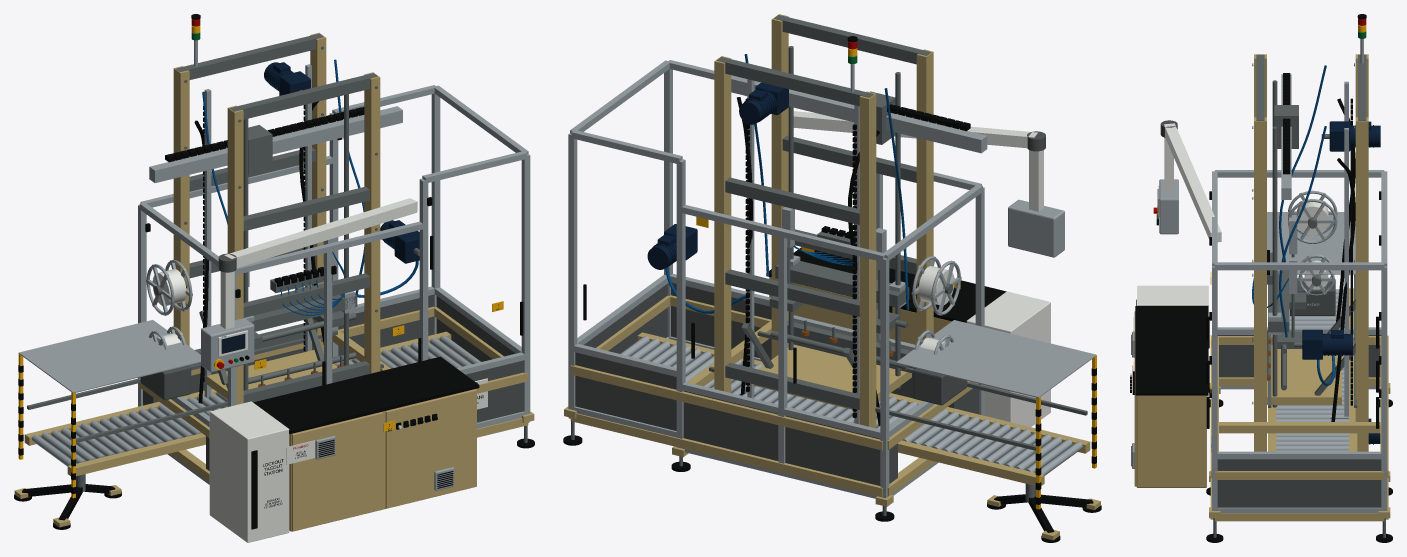
File: senzani.obj
3 views of the same model, side by side, from view 1: azimuth 30°, elevation 25°; view 2: azimuth 150°, elevation 25°; view 3: azimuth 270°, elevation 25° (orthographic). The views are drawn at different scales.
Visible parts, largest first — view 1: Armario_bloqueo, Puerta_electrica.001, Puerta_electrica, Cubierta_negra, Techo_tunel, Columna_torre.002, Brazo_superior, Columna_torre.001, Brazo_HMI, Columna_torre, Montante_resguardo.005, Columna_torre.003 (+44 smaller); view 2: Techo_tunel, Columna_torre.001, Columna_torre.003, Panel_inferior.005, Armario_bloqueo, Columna_torre, Panel_inferior.003, Panel_inferior.004, Larguero_base.003, Brazo_superior, Larguero_base.001, Columna_torre.002 (+53 smaller); view 3: Armario_electrico, Zocalo_lateral, Cubierta_negra, Columna_torre.003, Columna_torre.002, Placa_proceso, Techo_tunel, Travesano_base.004, Brazo_HMI, Montante_resguardo.011, Armario_bloqueo, Travesano_base.005 (+45 smaller).
Boxes of the visible parts, box(x1,y1,x2,y2) form: Armario_bloqueo: box(209, 401, 289, 542); Puerta_electrica.001: box(385, 389, 476, 508); Puerta_electrica: box(292, 412, 383, 531); Cubierta_negra: box(253, 356, 479, 433); Techo_tunel: box(19, 320, 200, 393); Columna_torre.002: box(364, 72, 380, 373); Brazo_superior: box(149, 106, 402, 182); Columna_torre.001: box(173, 66, 189, 396); Brazo_HMI: box(224, 198, 417, 267); Columna_torre: box(227, 105, 243, 406); Montante_resguardo.005: box(521, 154, 530, 414); Columna_torre.003: box(310, 33, 326, 354); Techo_tunel: box(896, 320, 1096, 397); Columna_torre.001: box(859, 91, 876, 428); Columna_torre.003: box(714, 56, 731, 392); Panel_inferior.005: box(575, 352, 676, 430); Armario_bloqueo: box(966, 291, 1050, 426); Columna_torre: box(916, 49, 933, 341); Panel_inferior.003: box(785, 415, 880, 485); Panel_inferior.004: box(683, 391, 778, 460); Larguero_base.003: box(570, 365, 882, 450); Brazo_superior: box(731, 75, 987, 153); Larguero_base.001: box(570, 413, 882, 496); Columna_torre.002: box(771, 14, 788, 359); Armario_electrico: box(1136, 395, 1206, 487); Zocalo_lateral: box(1217, 459, 1381, 507); Cubierta_negra: box(1135, 306, 1208, 395); Columna_torre.003: box(1355, 117, 1368, 451); Columna_torre.002: box(1254, 117, 1266, 451); Placa_proceso: box(1267, 347, 1341, 404); Techo_tunel: box(1267, 212, 1355, 274); Travesano_base.004: box(1217, 422, 1381, 433); Brazo_HMI: box(1164, 123, 1221, 242); Montante_resguardo.011: box(1381, 266, 1387, 510); Armario_bloqueo: box(1137, 285, 1208, 396); Travesano_base.005: box(1215, 471, 1384, 479).
Bounding box in the file's own units: 3.73 × 3.45 × 2.01.
